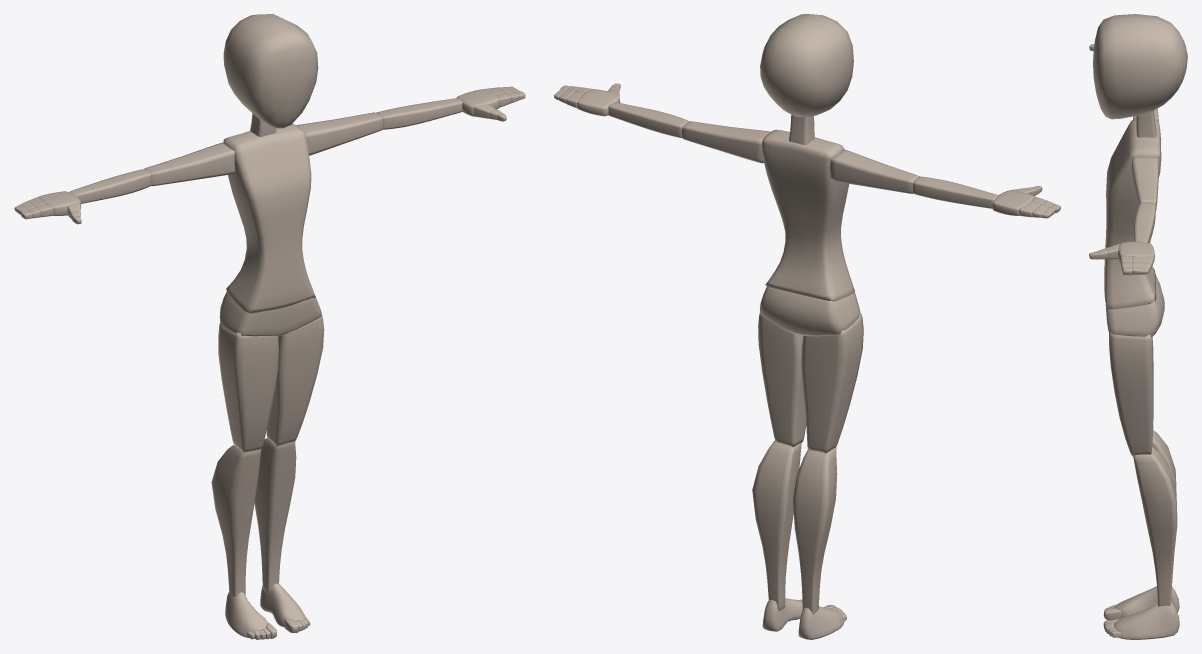
Rendered from running.obj.
3 views of the same model, side by side, from view 1: azimuth 30°, elevation 25°; view 2: azimuth 150°, elevation 25°; view 3: azimuth 270°, elevation 25° (orthographic).
Parts seen in each view (by area): view 1: torso_geo, head_geo, upperleg_R_geo, lowerleg_R_geo, upperleg_L_geo, lowerleg_L_geo, hips_geo, upperarm_R_geo, upperarm_L_geo, forearm_L_geo, forearm_R_geo, foot_R_geo1 (+1 smaller); view 2: torso_geo, head_geo, upperleg_R_geo, lowerleg_L_geo, lowerleg_R_geo, upperleg_L_geo, hips_geo, upperarm_R_geo, upperarm_L_geo, forearm_R_geo, forearm_L_geo, foot_R_geo1 (+3 smaller); view 3: head_geo, torso_geo, upperleg_L_geo, lowerleg_L_geo, hips_geo, foot_L_geo1, upperarm_L_geo, foot_R_geo1, forearm_L_geo, R_palm_R_geo1, neck_geo, lowerleg_R_geo (+1 smaller).
Part boxes in pixels (bbox=[...]): torso_geo: bbox=[223, 123, 315, 313]; head_geo: bbox=[223, 14, 318, 128]; upperleg_R_geo: bbox=[218, 322, 278, 452]; lowerleg_R_geo: bbox=[211, 445, 261, 596]; upperleg_L_geo: bbox=[266, 315, 324, 446]; lowerleg_L_geo: bbox=[254, 438, 296, 594]; hips_geo: bbox=[219, 291, 321, 336]; upperarm_R_geo: bbox=[144, 142, 234, 186]; upperarm_L_geo: bbox=[296, 112, 382, 155]; forearm_L_geo: bbox=[376, 98, 462, 129]; forearm_R_geo: bbox=[69, 169, 151, 203]; foot_R_geo1: bbox=[225, 592, 268, 637]; torso_geo: bbox=[762, 129, 854, 301]; head_geo: bbox=[760, 14, 853, 116]; upperleg_R_geo: bbox=[801, 313, 863, 453]; lowerleg_L_geo: bbox=[752, 441, 801, 610]; lowerleg_R_geo: bbox=[793, 447, 837, 614]; upperleg_L_geo: bbox=[758, 312, 806, 447]; hips_geo: bbox=[760, 286, 860, 336]; upperarm_R_geo: bbox=[830, 149, 919, 193]; upperarm_L_geo: bbox=[682, 121, 770, 163]; forearm_R_geo: bbox=[913, 176, 998, 208]; forearm_L_geo: bbox=[608, 102, 688, 138]; foot_R_geo1: bbox=[798, 606, 844, 639]; head_geo: bbox=[1093, 14, 1187, 119]; torso_geo: bbox=[1104, 119, 1161, 309]; upperleg_L_geo: bbox=[1109, 332, 1153, 456]; lowerleg_L_geo: bbox=[1133, 447, 1177, 606]; hips_geo: bbox=[1105, 275, 1164, 336]; foot_L_geo1: bbox=[1114, 601, 1179, 639]; upperarm_L_geo: bbox=[1131, 156, 1158, 212]; foot_R_geo1: bbox=[1114, 586, 1179, 617]; forearm_L_geo: bbox=[1134, 202, 1155, 243]; R_palm_R_geo1: bbox=[1118, 241, 1154, 262]; neck_geo: bbox=[1136, 110, 1156, 137]; lowerleg_R_geo: bbox=[1152, 430, 1176, 488].
Size of the model in its own units: 150 by 173 by 25.63.
